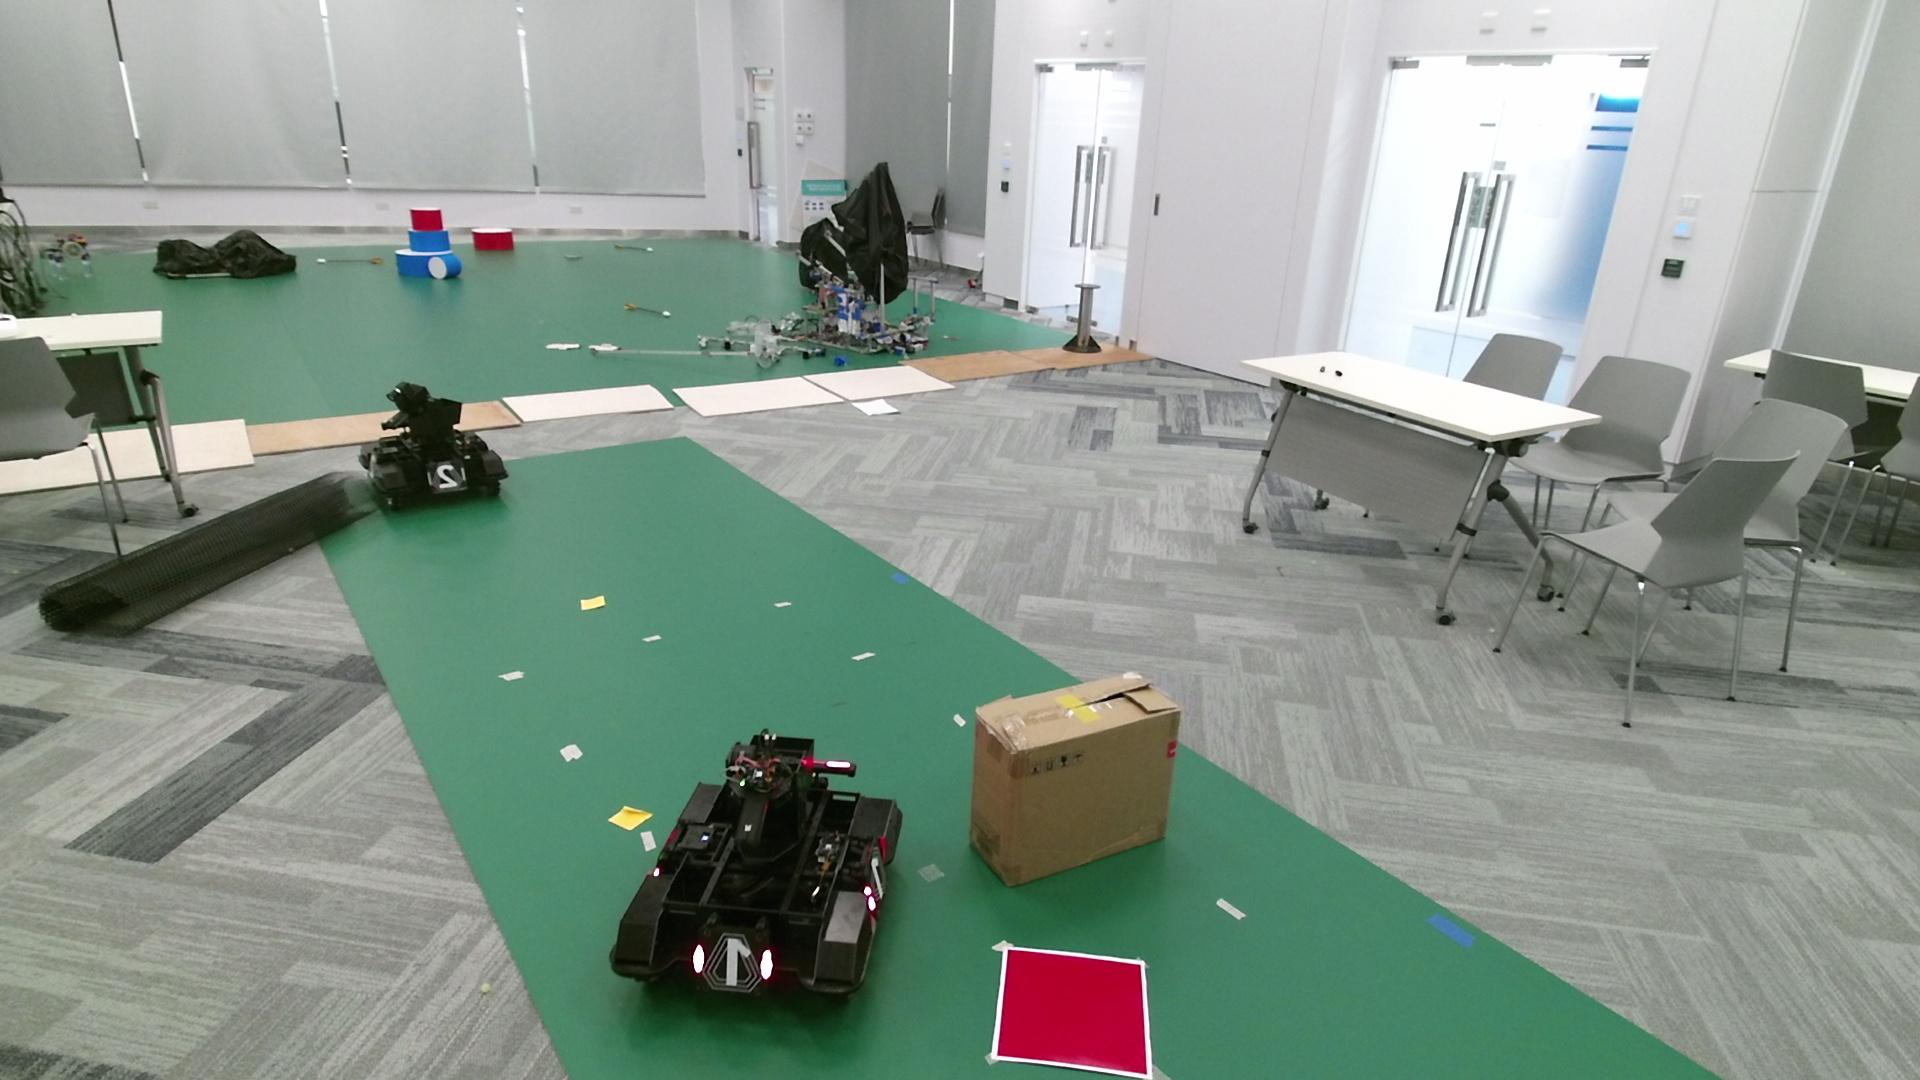robot: (607, 727, 905, 1011), (357, 380, 509, 512)
